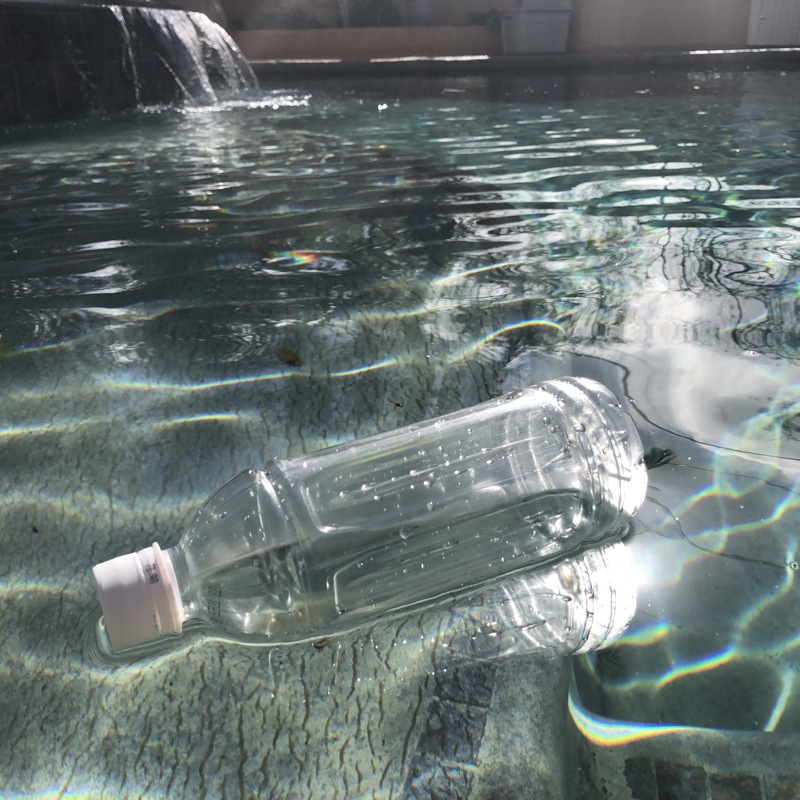Plastic Bottle: (87, 372, 653, 666)
